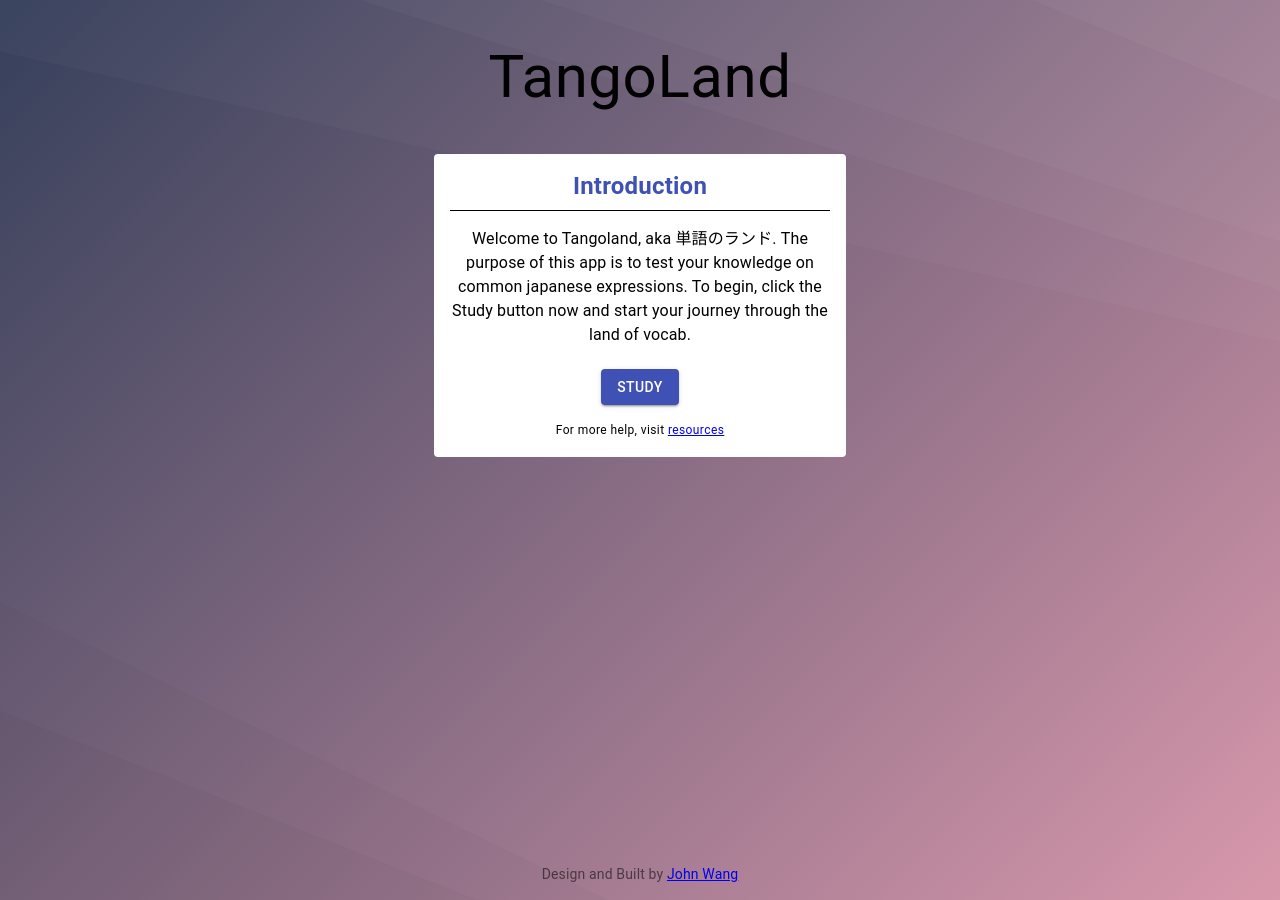
App › navigate to resouces
This screenshot has width=1280, height=900.
Check: the heading "Introduction" is shown, box [450,170,830,211]
Click the link "resources" at (696, 430), box [668,423,724,437]
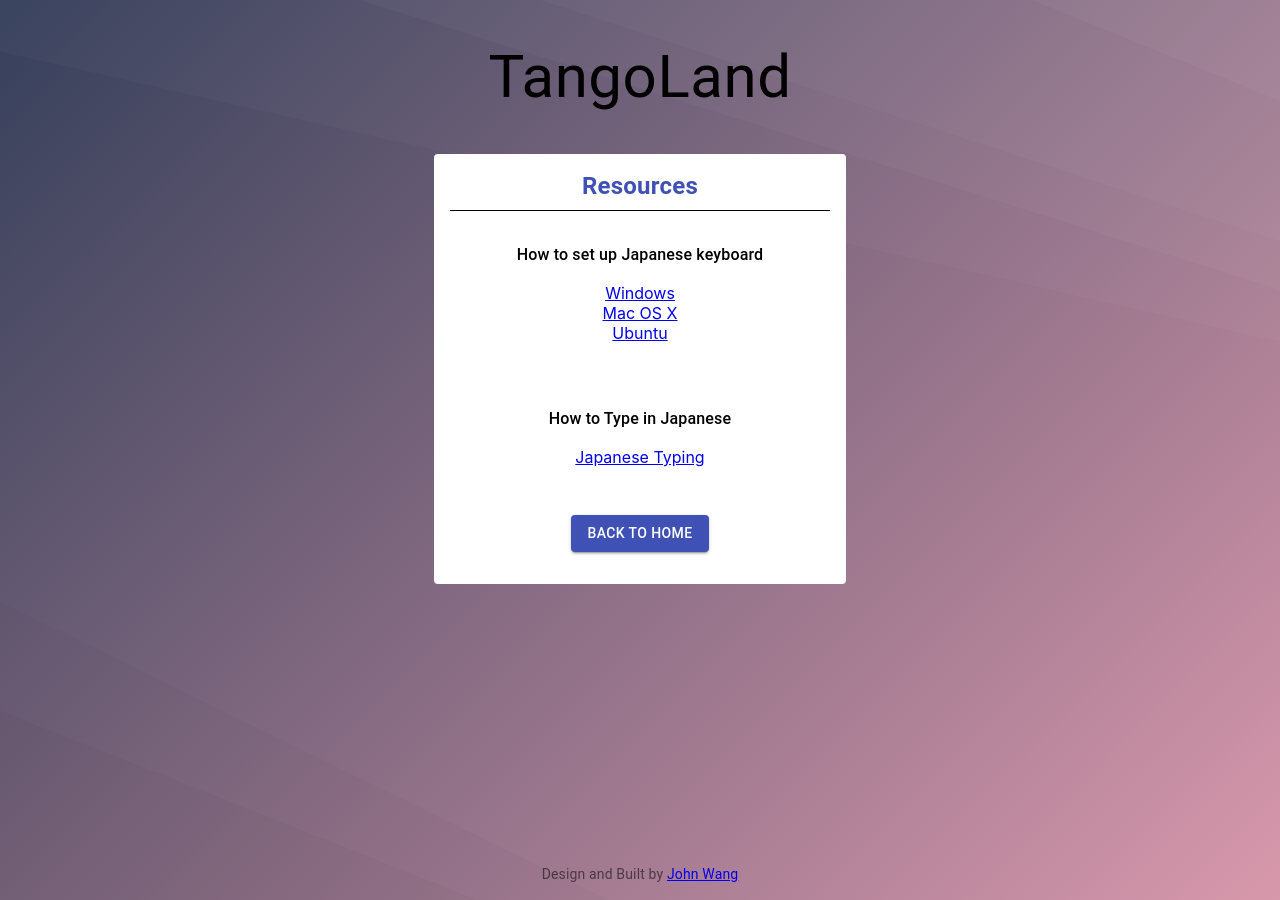
Check: the heading "Resources" is shown, box [450,170,830,211]
